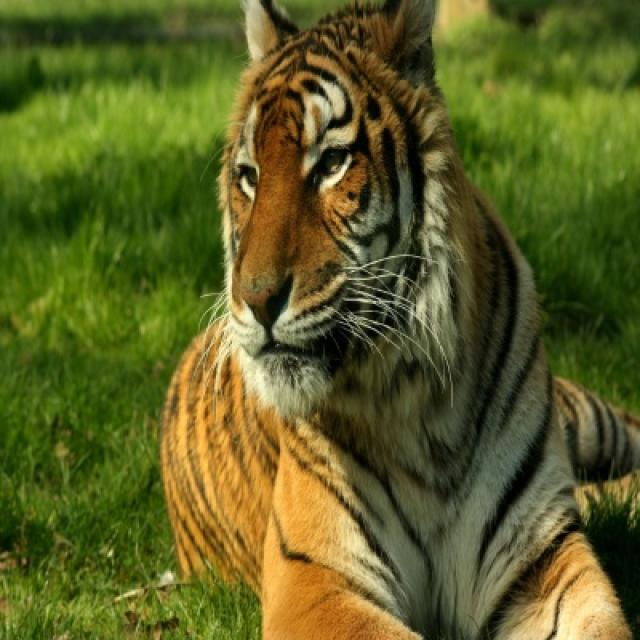Tiger: (158, 1, 638, 638)
